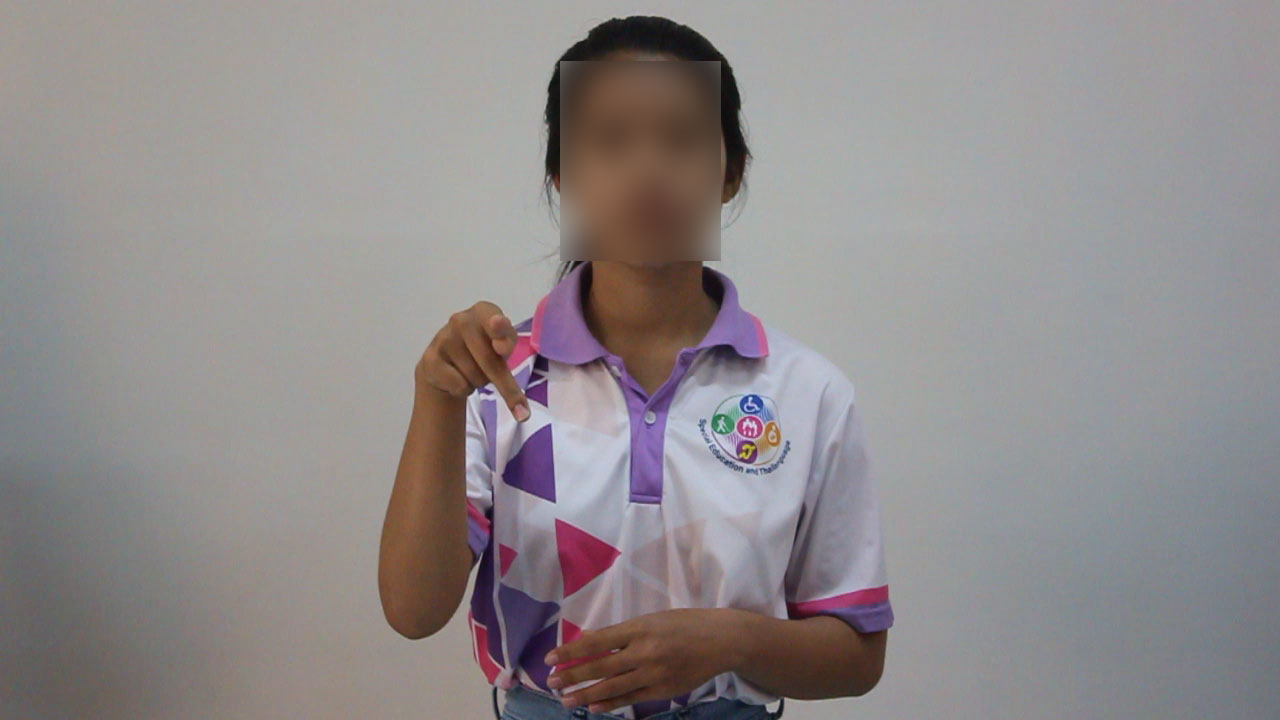por: (406, 285, 540, 443)
